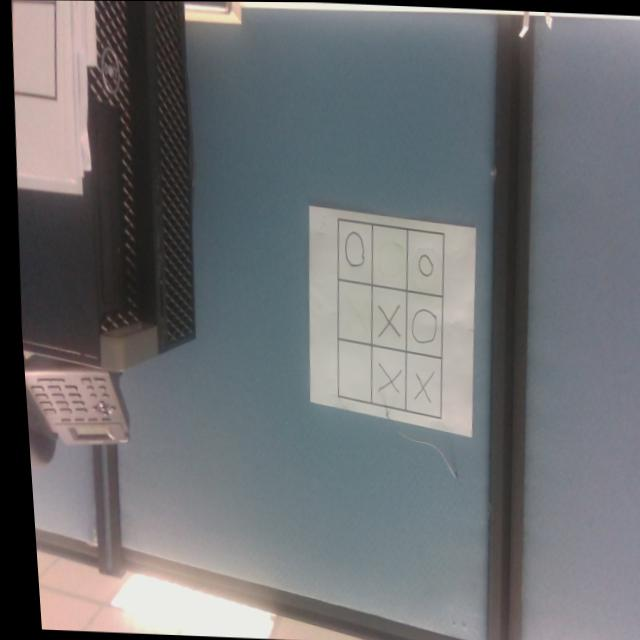null: (8, 0, 58, 97), (331, 339, 369, 403)
o: (403, 307, 436, 348), (371, 241, 402, 278), (338, 229, 363, 270), (410, 252, 431, 278)
table: (323, 219, 454, 427)
x: (368, 363, 402, 405), (367, 301, 400, 341), (337, 289, 366, 333), (404, 369, 433, 406)
